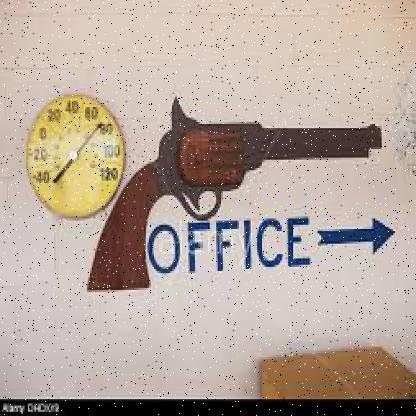pistol: (77, 82, 387, 288)
